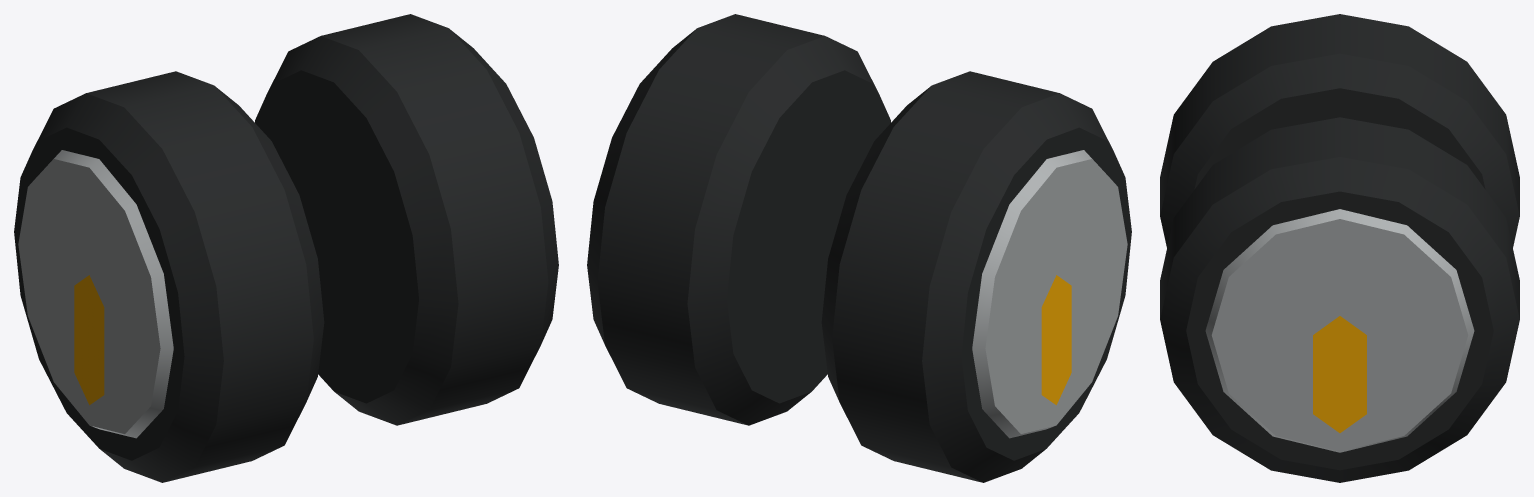
File: Cargo_Drone_001_Wheel_004.fbx
3 views of the same model, side by side, from view 1: azimuth 30°, elevation 25°; view 2: azimuth 150°, elevation 25°; view 3: azimuth 270°, elevation 25° (orthographic). The views are drawn at different scales.
Visible parts, largest first — view 1: Cargo_Drone_001_Wheel_004; view 2: Cargo_Drone_001_Wheel_004; view 3: Cargo_Drone_001_Wheel_004.
Boxes of the visible parts, <box> form: Cargo_Drone_001_Wheel_004: <box>14,14,558,482</box>; Cargo_Drone_001_Wheel_004: <box>587,14,1131,482</box>; Cargo_Drone_001_Wheel_004: <box>1160,14,1519,482</box>.
Bounding box in the file's own units: 23.7 × 20.77 × 20.77.
